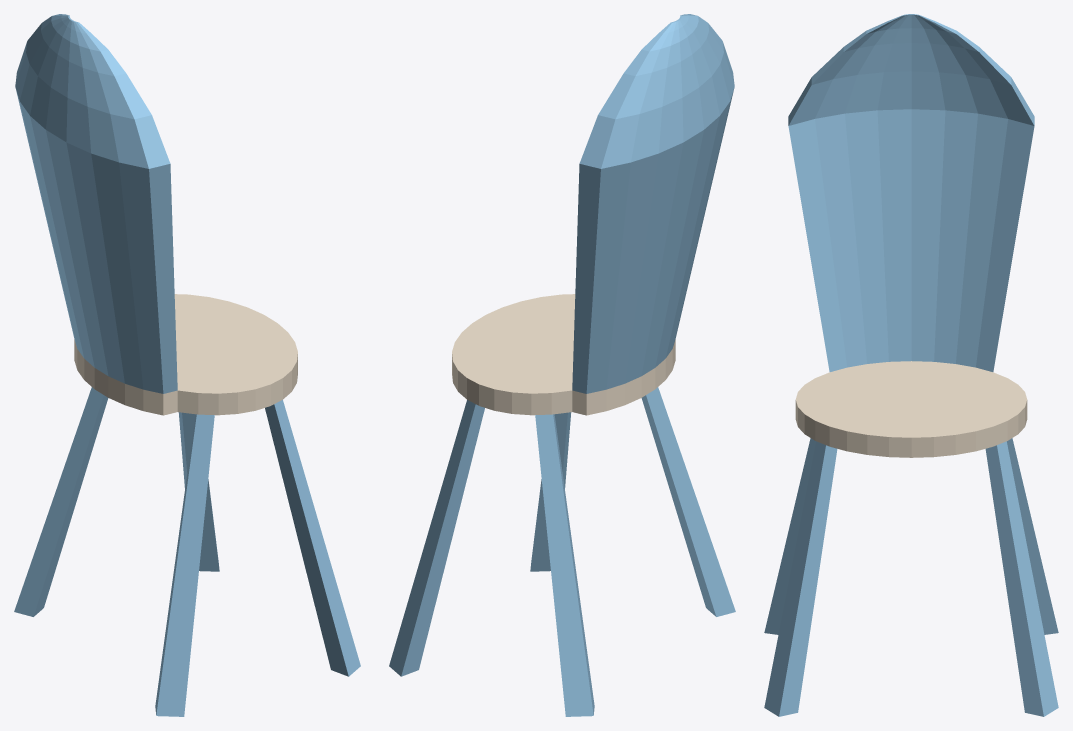
Rendered from chair 2.fbx.
The picture shows the model from 3 angles, left to right: view 1: azimuth 30°, elevation 25°; view 2: azimuth 150°, elevation 25°; view 3: azimuth 270°, elevation 25°; orthographic projection. The views are drawn at different scales.
Parts seen in each view (by area): view 1: Cylinder; view 2: Cylinder; view 3: Cylinder.
Boxes of the visible parts, bbox=[...] form: Cylinder: bbox=[14, 14, 360, 716]; Cylinder: bbox=[389, 14, 735, 716]; Cylinder: bbox=[764, 14, 1058, 716].
Size of the model in its own units: 188 by 476 by 210.
